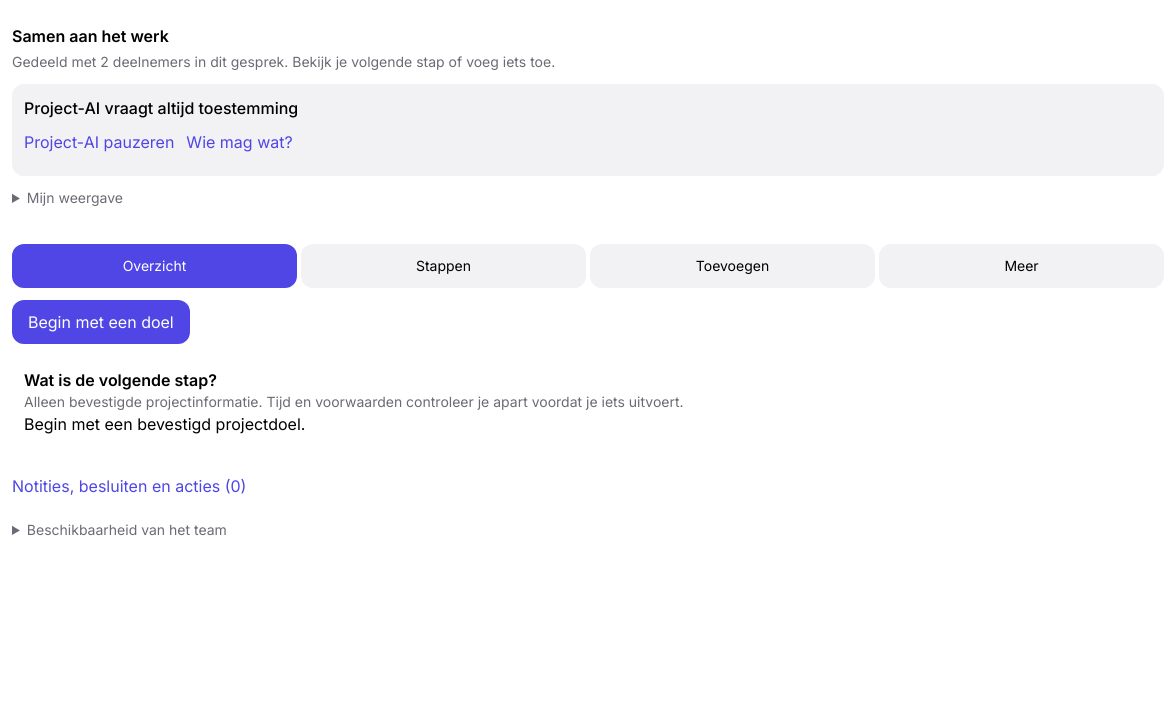
Test case: deelt kennis pas na een controleerbaar voorstel en bevestiging
The width and height of the screenshot is (1176, 703).
Click the button "Toevoegen" at (732, 266), box 590,244 -> 875,288
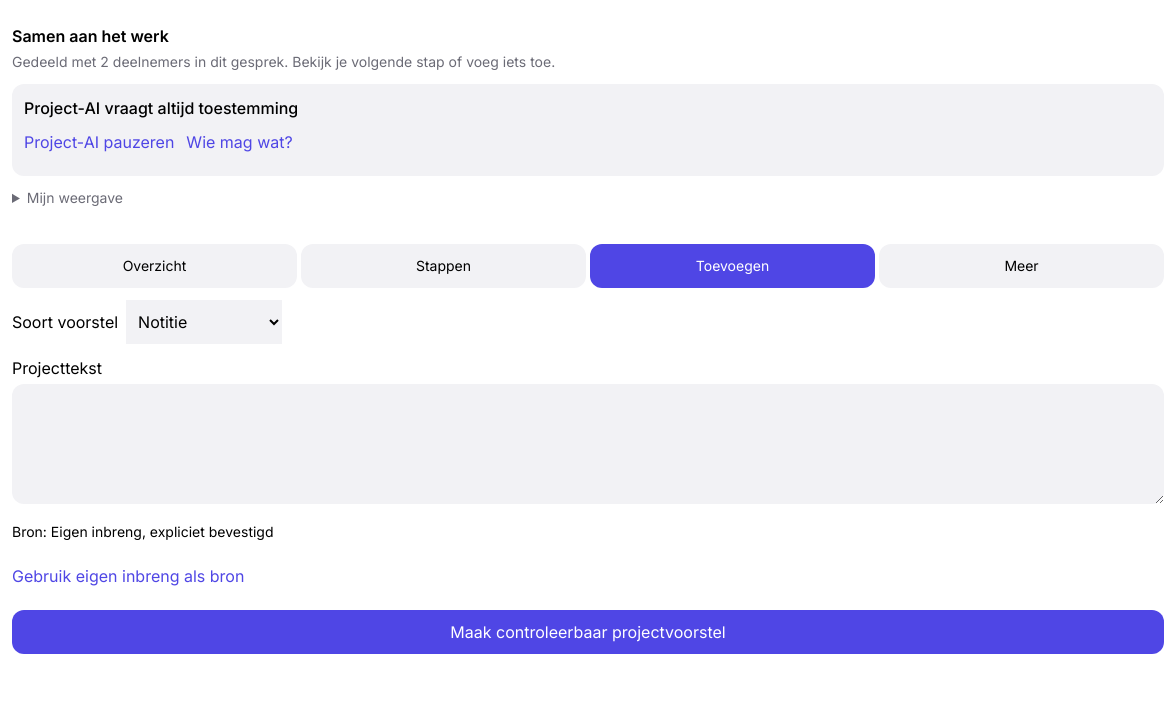
Type "We werken met kleine stappen." into the text box labelled "Projecttekst" at (588, 444), box 12,384 -> 1164,504
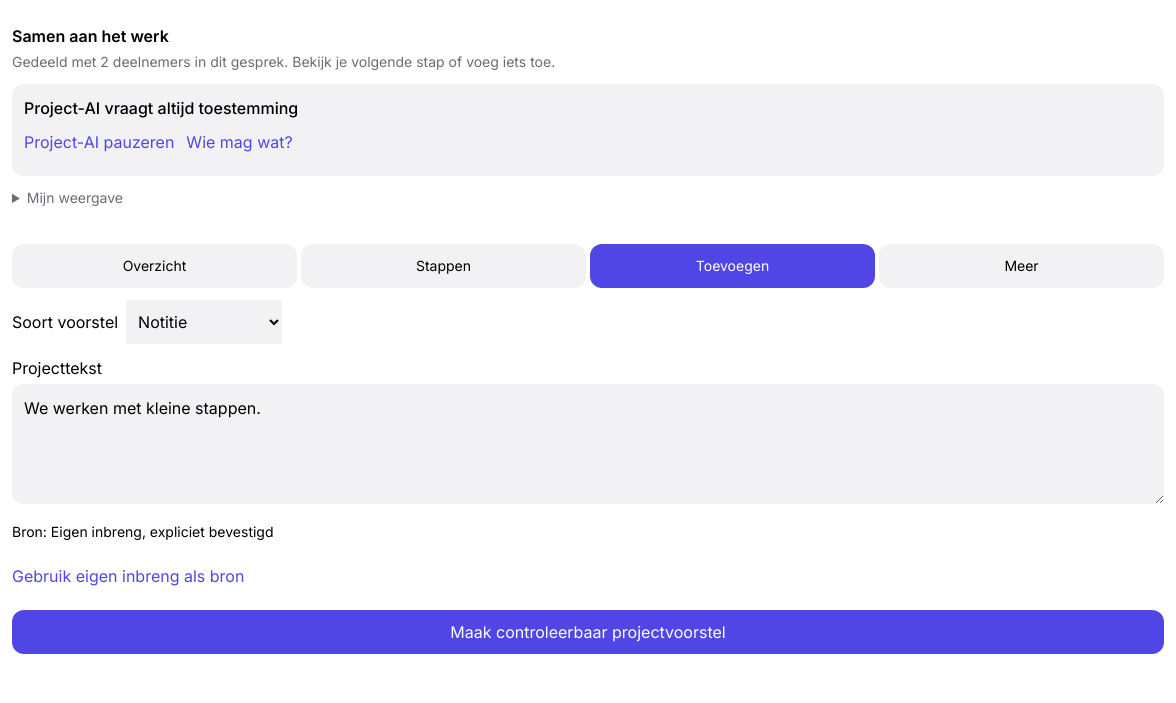
Click the button "Maak controleerbaar projectvoorstel" at (588, 632), box 12,610 -> 1164,654
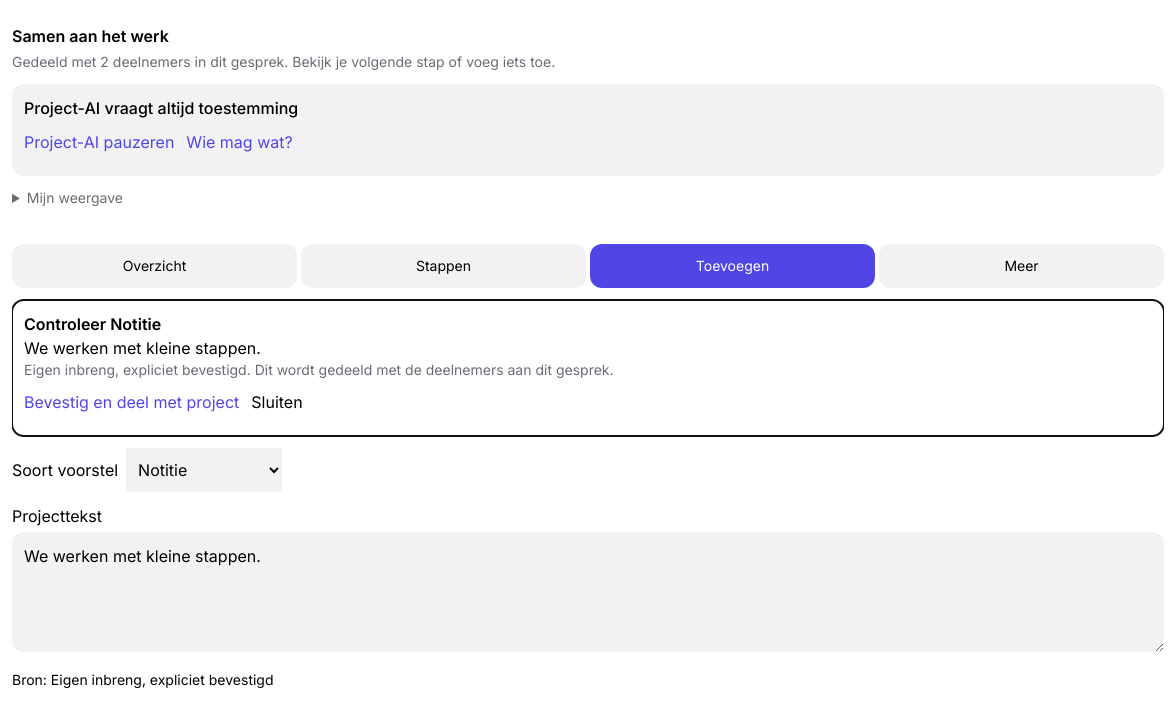
Click the button "Bevestig en deel met project" at (132, 402), box 24,380 -> 239,424
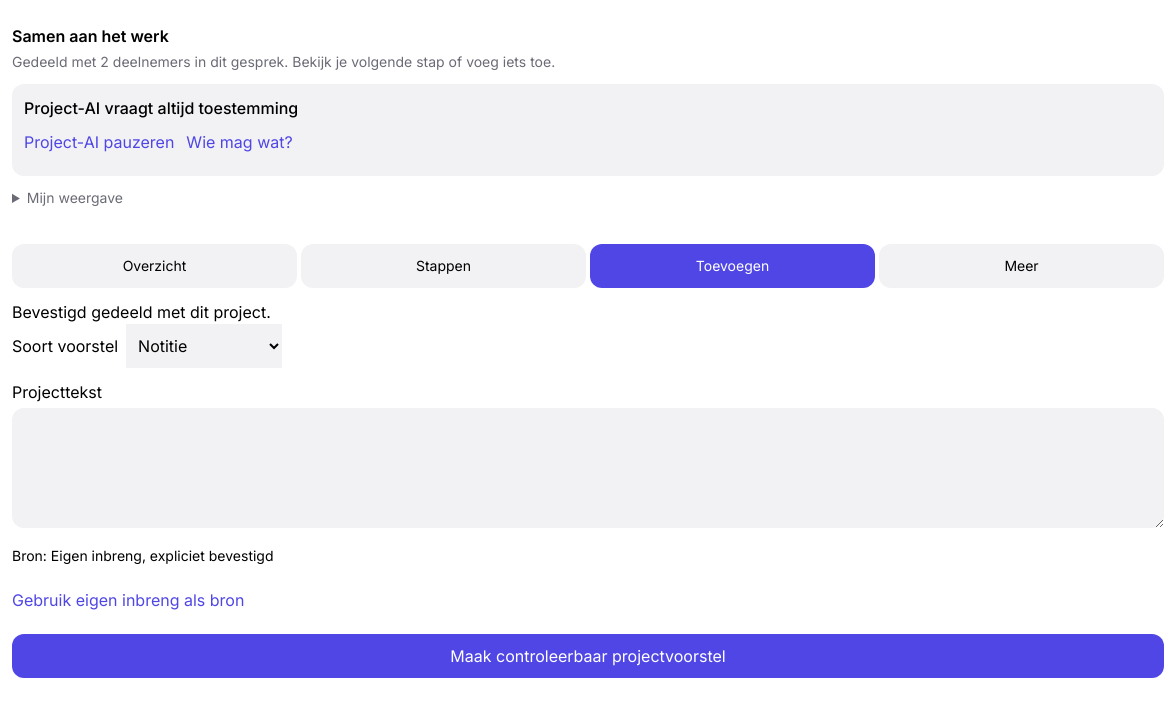
Check: the message shows "Bevestigd gedeeld", box 12,302 -> 271,322
